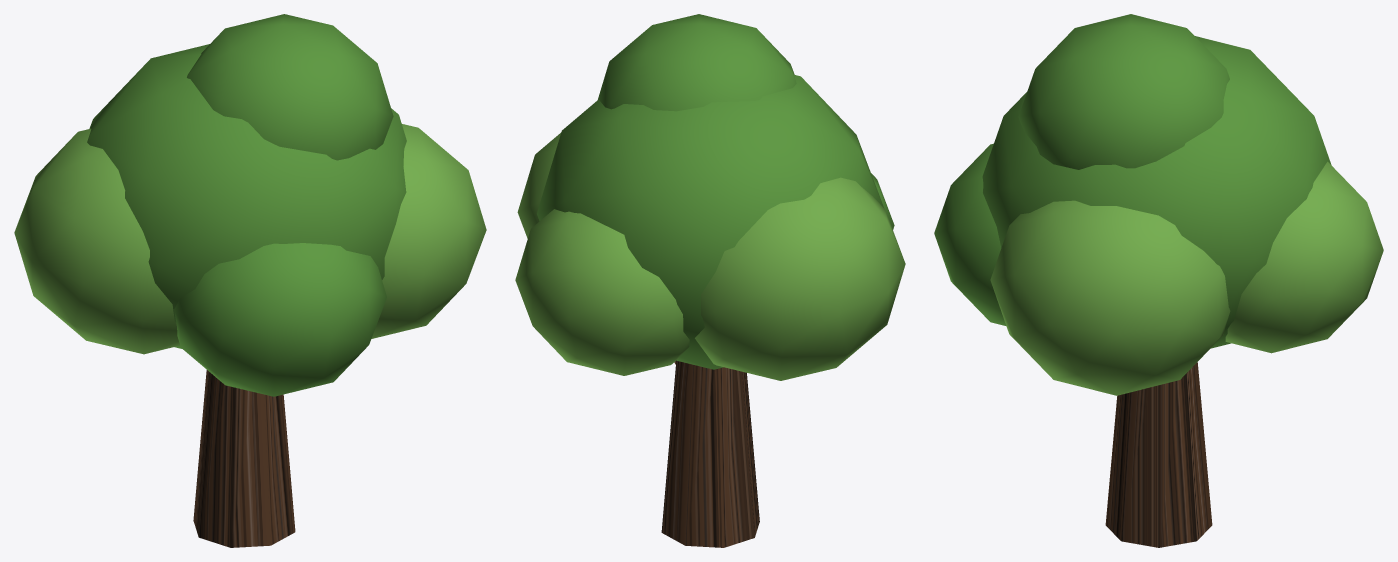
The model's file is oak.glb.
3 renders of one model, left to right at view 1: azimuth 30°, elevation 25°; view 2: azimuth 150°, elevation 25°; view 3: azimuth 270°, elevation 25°, orthographic. The views are drawn at different scales.
Visible parts, largest first — view 1: oak; view 2: oak; view 3: oak.
Part boxes in pixels (bbox=[...]): oak: bbox=[14, 14, 486, 547]; oak: bbox=[515, 14, 905, 547]; oak: bbox=[934, 14, 1383, 547].
Size of the model in its own units: 3.35 by 4.02 by 3.2.
3 materials, 1 textured.
